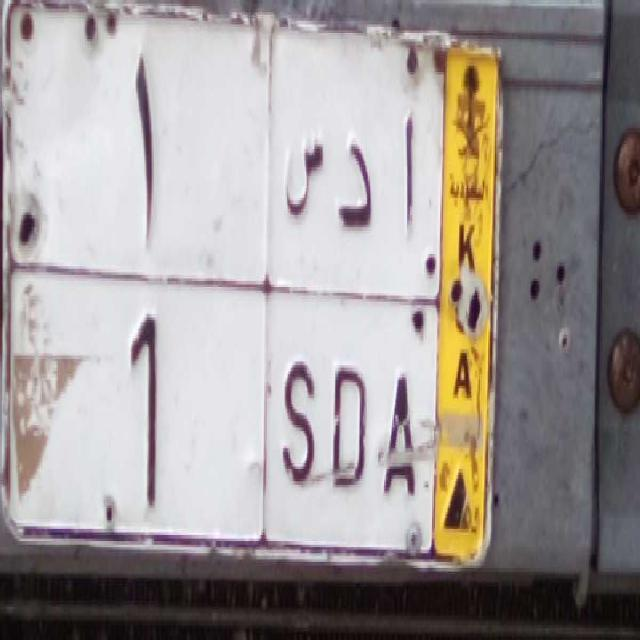license_plate: (2, 263, 436, 572)
